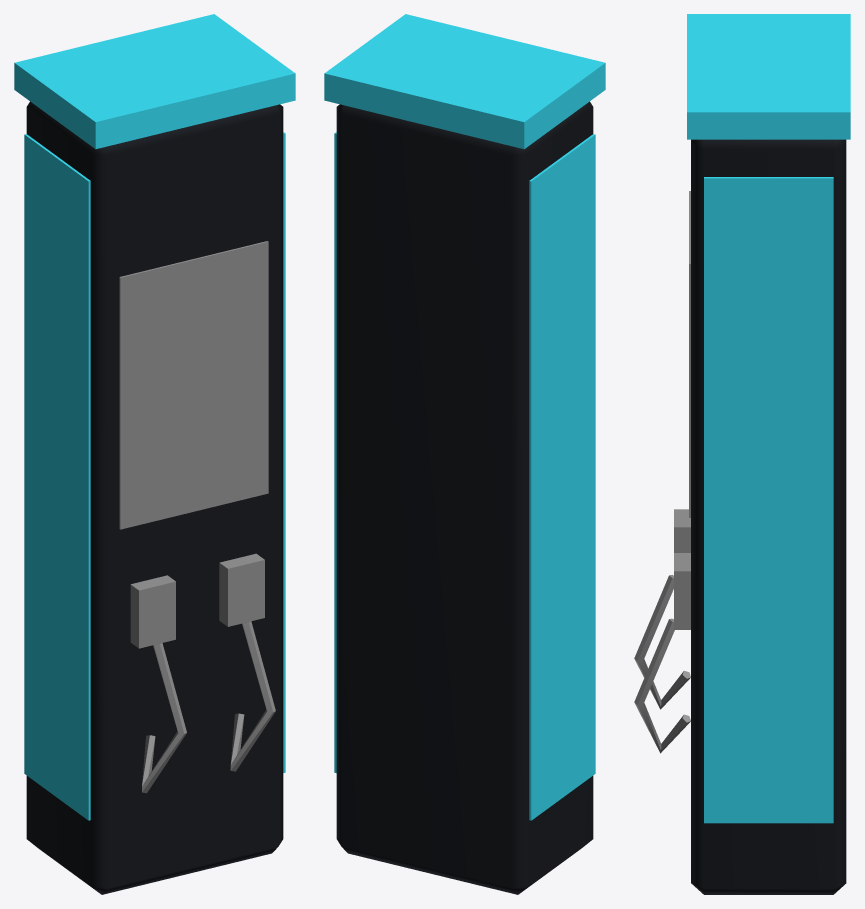
Rendered from St_ChargeTotem.fbx.
3 renders of one model, left to right at view 1: azimuth 30°, elevation 25°; view 2: azimuth 150°, elevation 25°; view 3: azimuth 270°, elevation 25°, orthographic.
Visible parts, largest first — view 1: St_ChargeTotem_LOD0; view 2: St_ChargeTotem_LOD0; view 3: St_ChargeTotem_LOD0.
Part boxes in pixels (box(x1,y1,x2,y2)): St_ChargeTotem_LOD0: box(14, 14, 295, 894); St_ChargeTotem_LOD0: box(324, 14, 605, 894); St_ChargeTotem_LOD0: box(634, 14, 850, 894).
Size of what is drawn, in the model's own units: 0.54 by 2.02 by 0.502.
